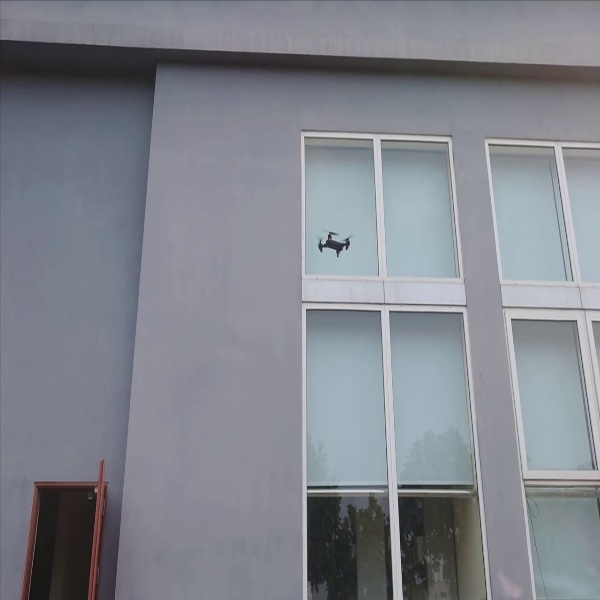drone: (313, 222, 356, 261)
